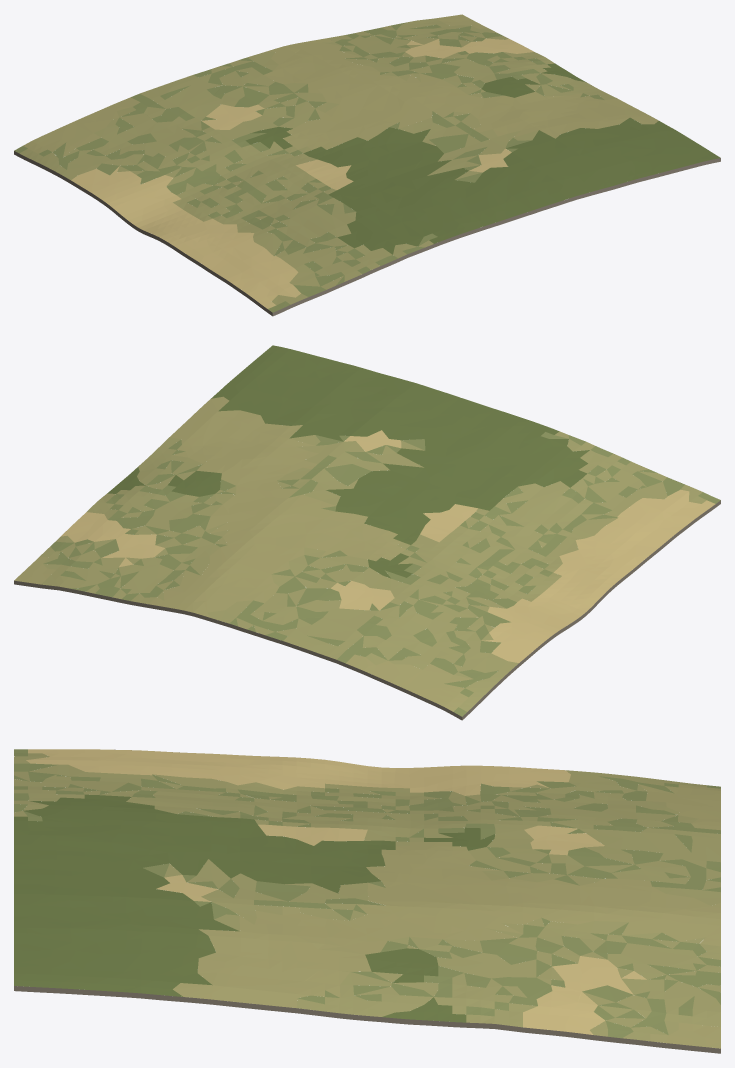
File: parca_+4_+1-uzak.glb
3 views of the same model, one above another, from view 1: azimuth 30°, elevation 25°; view 2: azimuth 150°, elevation 25°; view 3: azimuth 270°, elevation 25° (orthographic). The views are drawn at different scales.
Parts seen in each view (by area): view 1: parca_+4_+1_arazi_uzak; view 2: parca_+4_+1_arazi_uzak; view 3: parca_+4_+1_arazi_uzak.
Part boxes in pixels (bbox=[...]): parca_+4_+1_arazi_uzak: bbox=[14, 14, 720, 316]; parca_+4_+1_arazi_uzak: bbox=[14, 345, 720, 720]; parca_+4_+1_arazi_uzak: bbox=[14, 749, 720, 1053].
Size of the model in its own units: 1000 by 165 by 1000.
